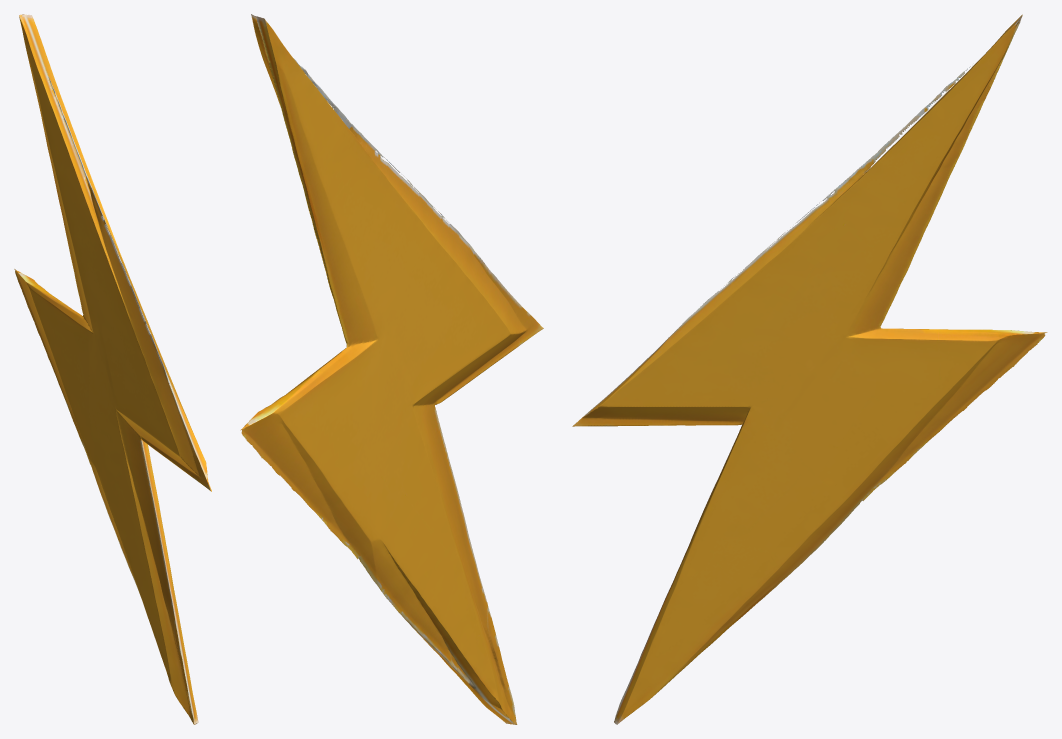
File: result.glb
3 views of the same model, side by side, from view 1: azimuth 30°, elevation 25°; view 2: azimuth 150°, elevation 25°; view 3: azimuth 270°, elevation 25° (orthographic). The views are drawn at different scales.
Visible parts, largest first — view 1: tripo_node_178fbe4f-bf37-4e8c-9eb2-884a1f1766b3; view 2: tripo_node_178fbe4f-bf37-4e8c-9eb2-884a1f1766b3; view 3: tripo_node_178fbe4f-bf37-4e8c-9eb2-884a1f1766b3.
Part boxes in pixels (x1=…): tripo_node_178fbe4f-bf37-4e8c-9eb2-884a1f1766b3: x1=14, y1=14, x2=211, y2=724; tripo_node_178fbe4f-bf37-4e8c-9eb2-884a1f1766b3: x1=240, y1=14, x2=543, y2=724; tripo_node_178fbe4f-bf37-4e8c-9eb2-884a1f1766b3: x1=572, y1=14, x2=1047, y2=724.
Size of the model in its own units: 0.0215 by 1 by 0.6109.
1 material, 1 textured.
